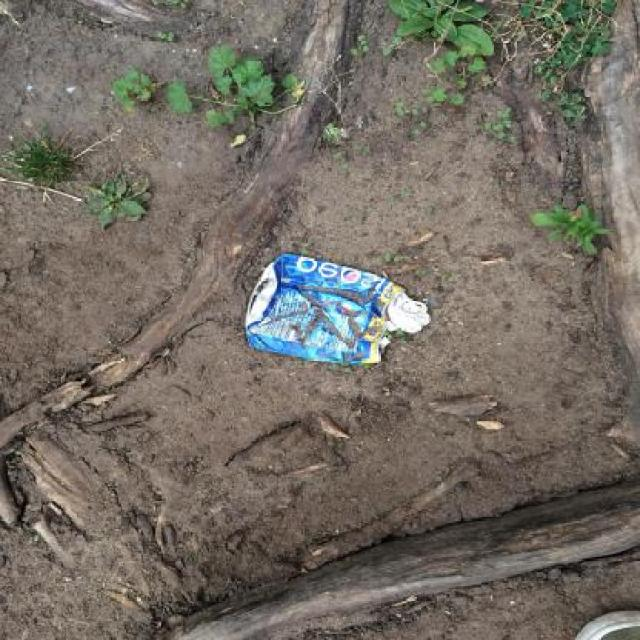metal: (243, 252, 431, 366)
